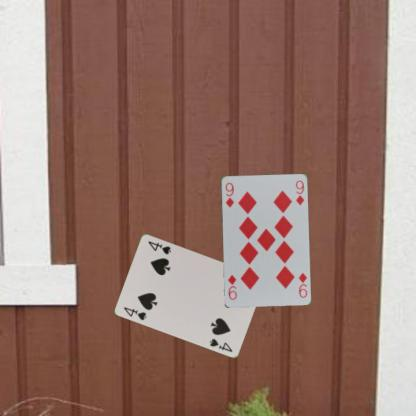4s: (121, 304, 148, 322)
9d: (223, 180, 235, 209), (296, 270, 308, 299)
